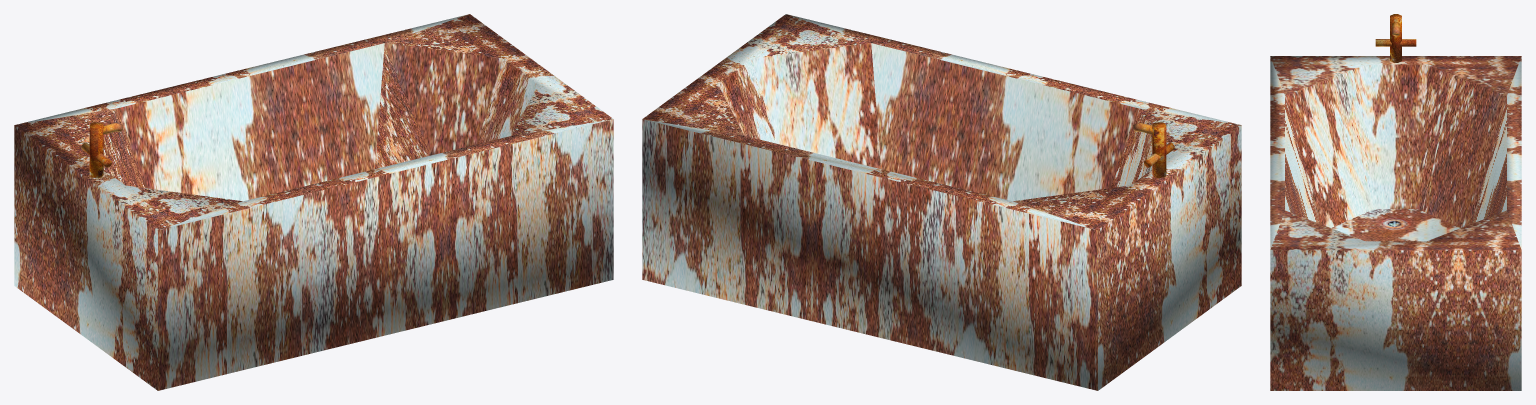
Rendered from bathtub_dirty_psx_low-poly.glb.
3 views of the same model, side by side, from view 1: azimuth 30°, elevation 25°; view 2: azimuth 150°, elevation 25°; view 3: azimuth 270°, elevation 25° (orthographic). The views are drawn at different scales.
Parts seen in each view (by area): view 1: Cube; view 2: Cube; view 3: Cube.
Boxes of the visible parts, x1,y1,x2,y2 form: Cube: (14,14,613,390); Cube: (642,14,1241,390); Cube: (1270,14,1521,390).
Size of the model in its own units: 4.01 by 1.77 by 2.19.
1 material, 1 textured.
